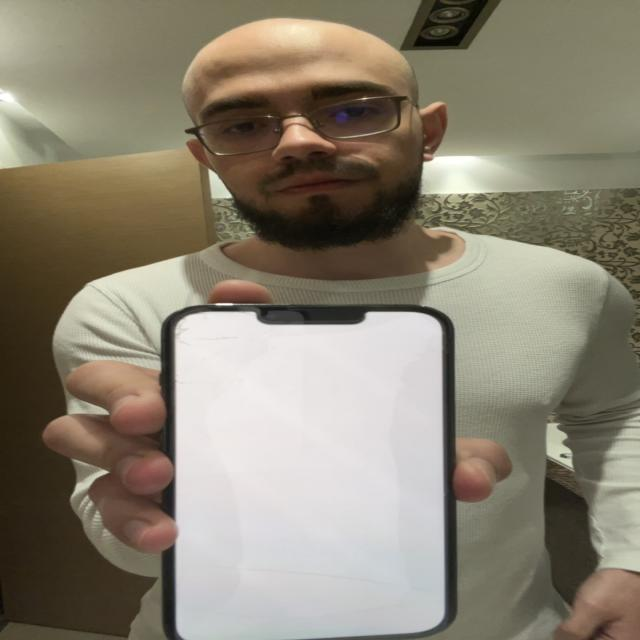Crack: (160, 307, 263, 403)
